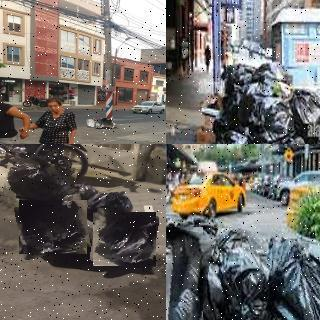Garbage: (260, 241, 320, 320), (217, 243, 277, 320), (17, 197, 89, 257), (166, 224, 208, 320), (91, 210, 158, 268), (3, 159, 77, 205), (87, 191, 135, 224), (290, 86, 320, 125), (66, 184, 99, 214), (208, 129, 253, 144), (100, 119, 113, 127), (87, 119, 96, 128), (94, 121, 102, 128)
